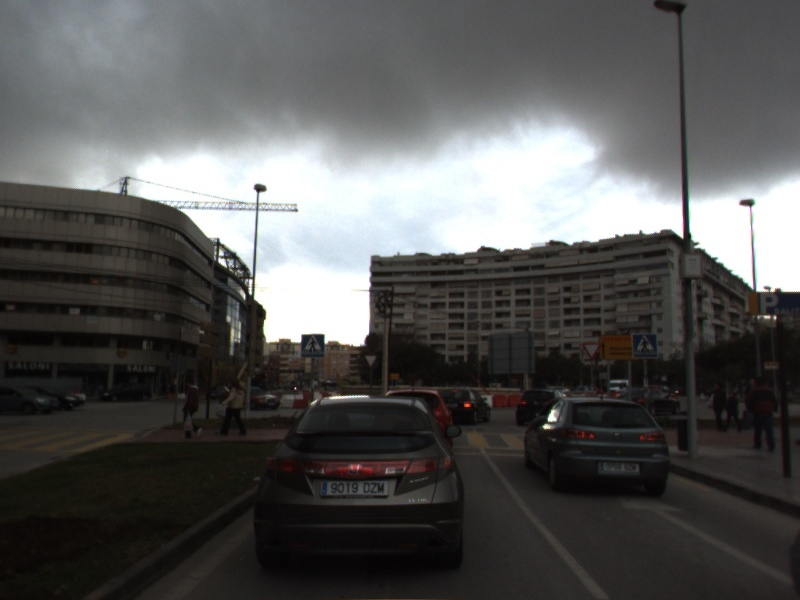STRAIGHT: (620, 489, 792, 585)
